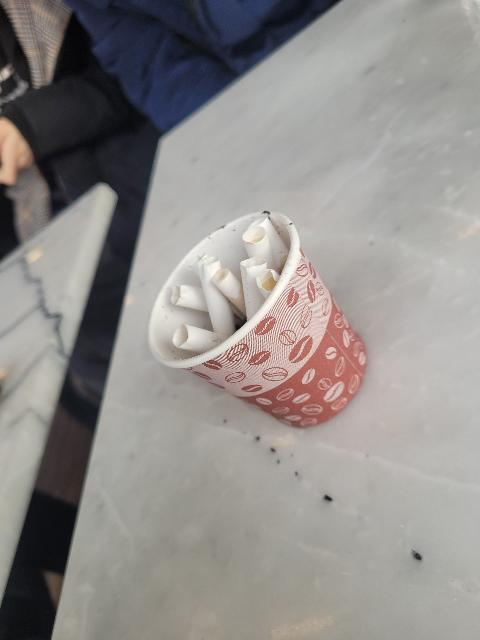Kagit: (148, 210, 371, 434)
